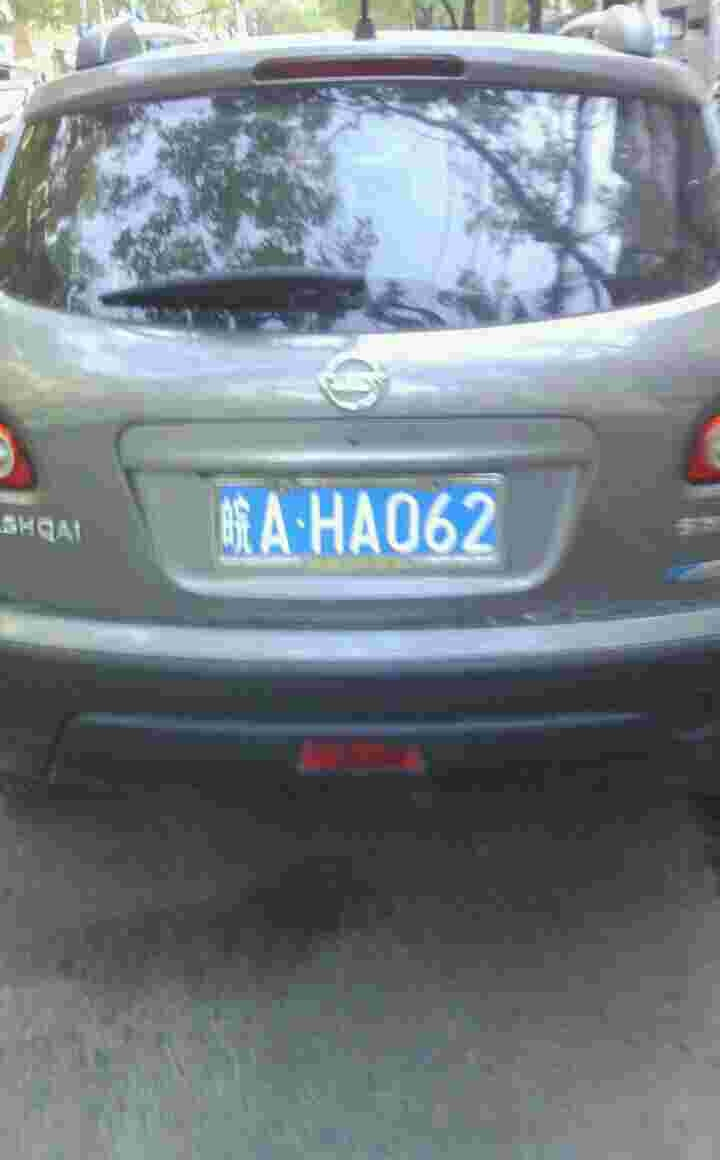car: (197, 483, 513, 563)
